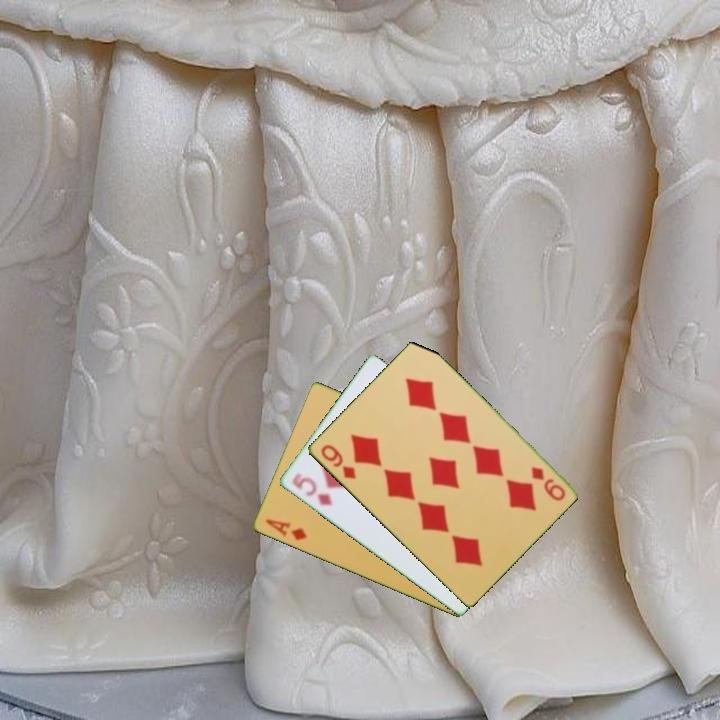5d: (288, 469, 335, 509)
9d: (317, 441, 359, 482), (527, 463, 568, 504)
Ad: (261, 516, 309, 544)
